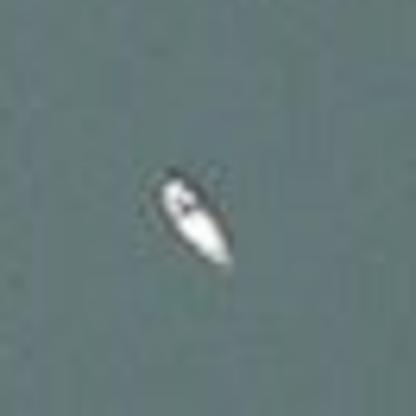ship: (134, 161, 252, 279)
